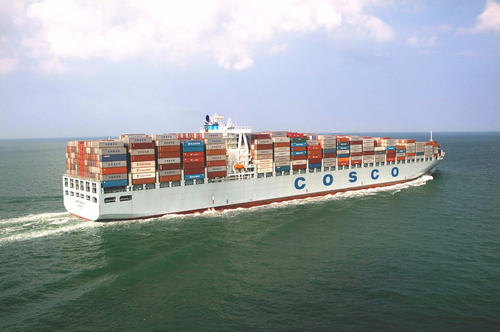Cargoship: (58, 108, 445, 215)
